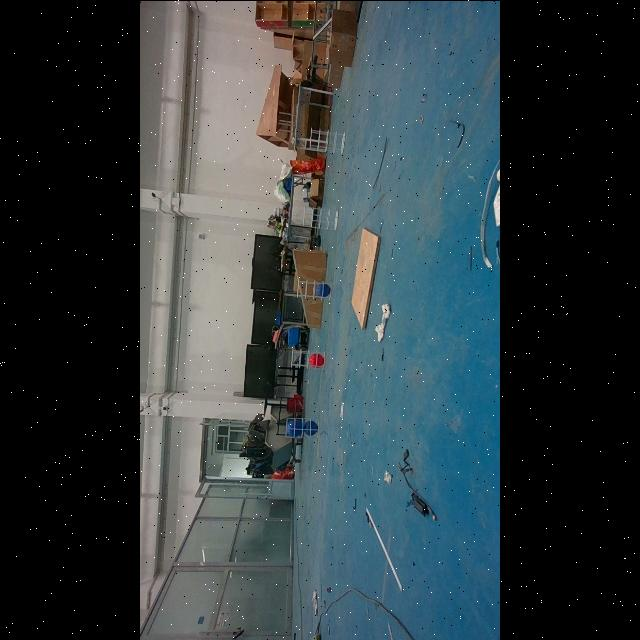B: (286, 418, 304, 436), (303, 418, 317, 436), (318, 282, 330, 298)
R: (310, 351, 324, 367)
S: (308, 126, 348, 156), (300, 203, 342, 231), (282, 414, 322, 442), (294, 275, 332, 303), (290, 346, 328, 370)
